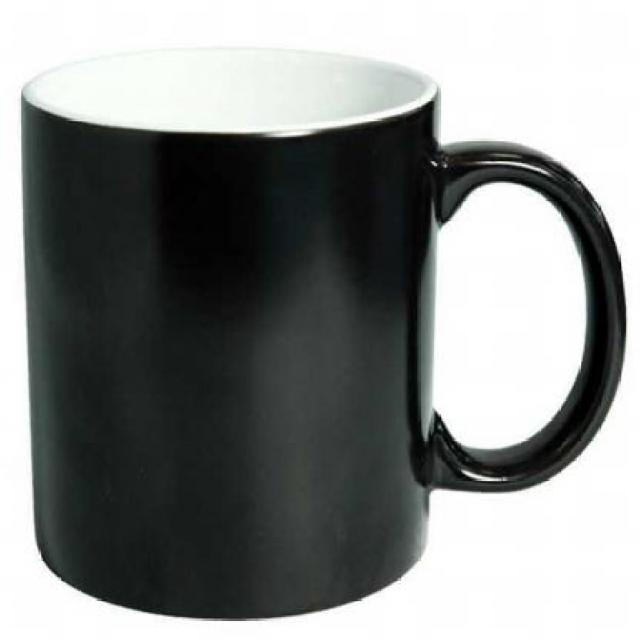taza: (20, 44, 628, 620)
